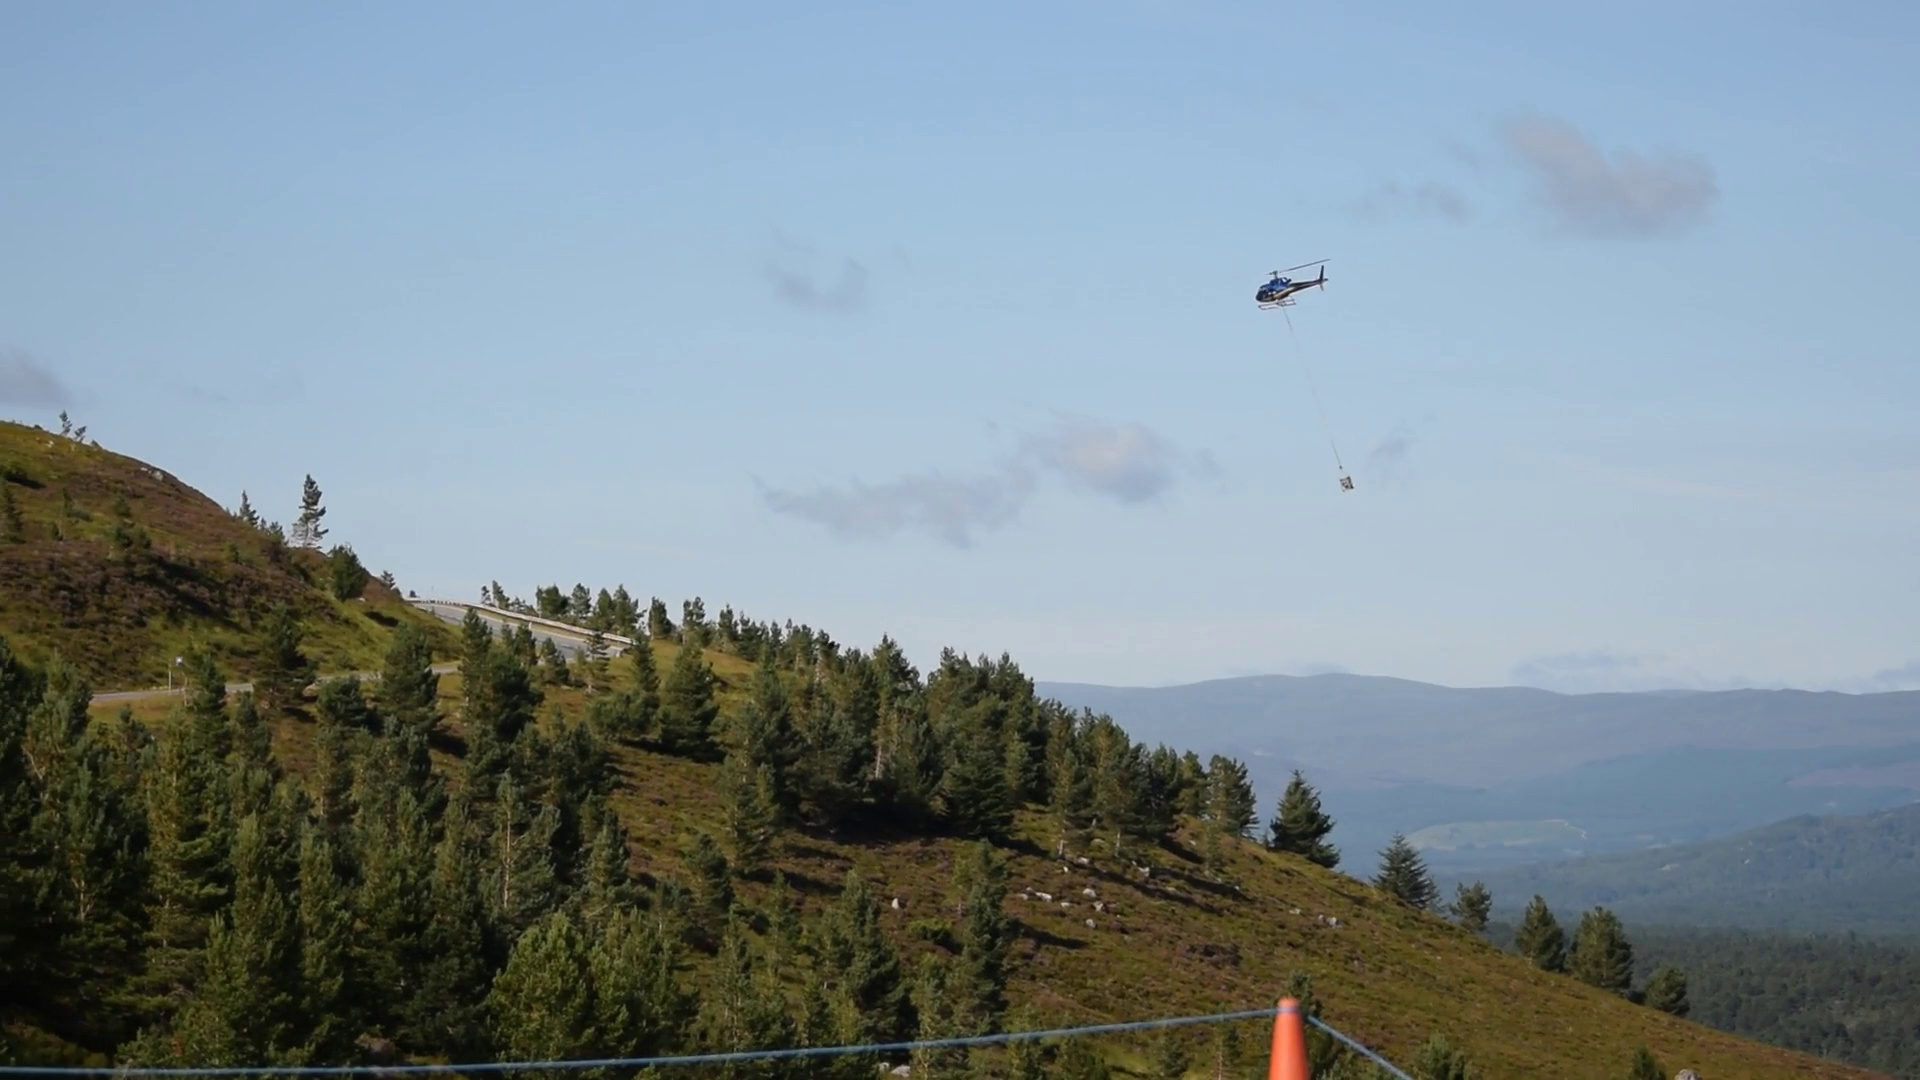heli: (1249, 258, 1331, 311)
